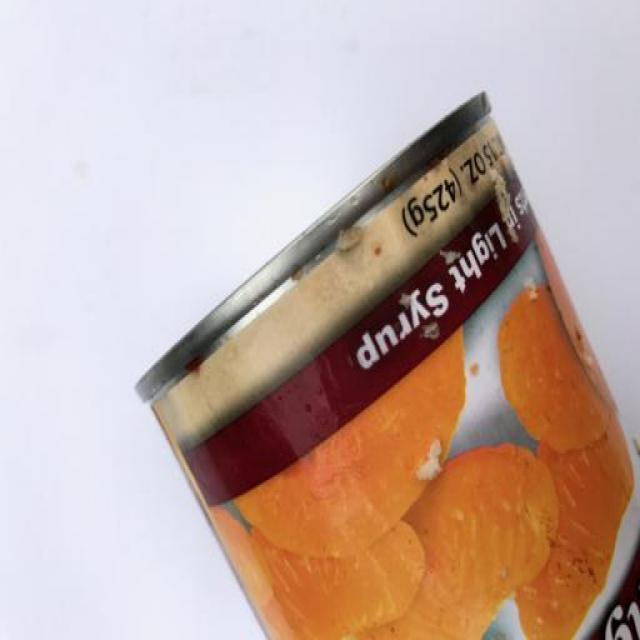metel: (132, 94, 640, 640)
